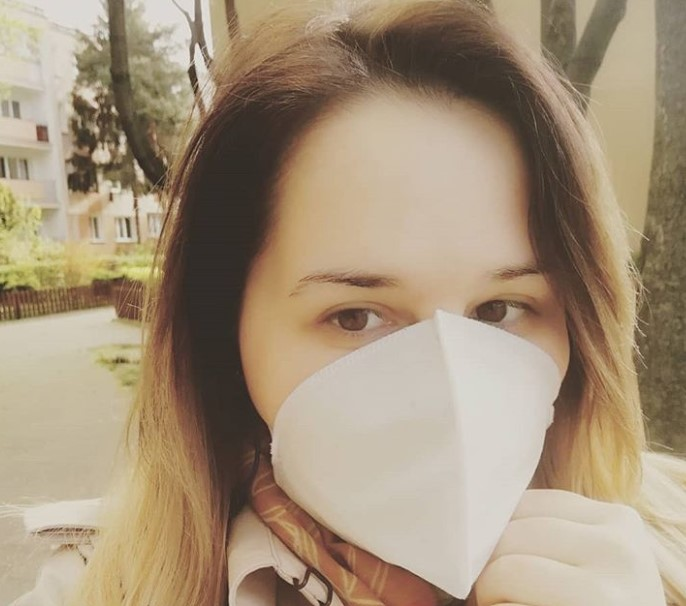face_with_mask: (224, 57, 614, 598)
